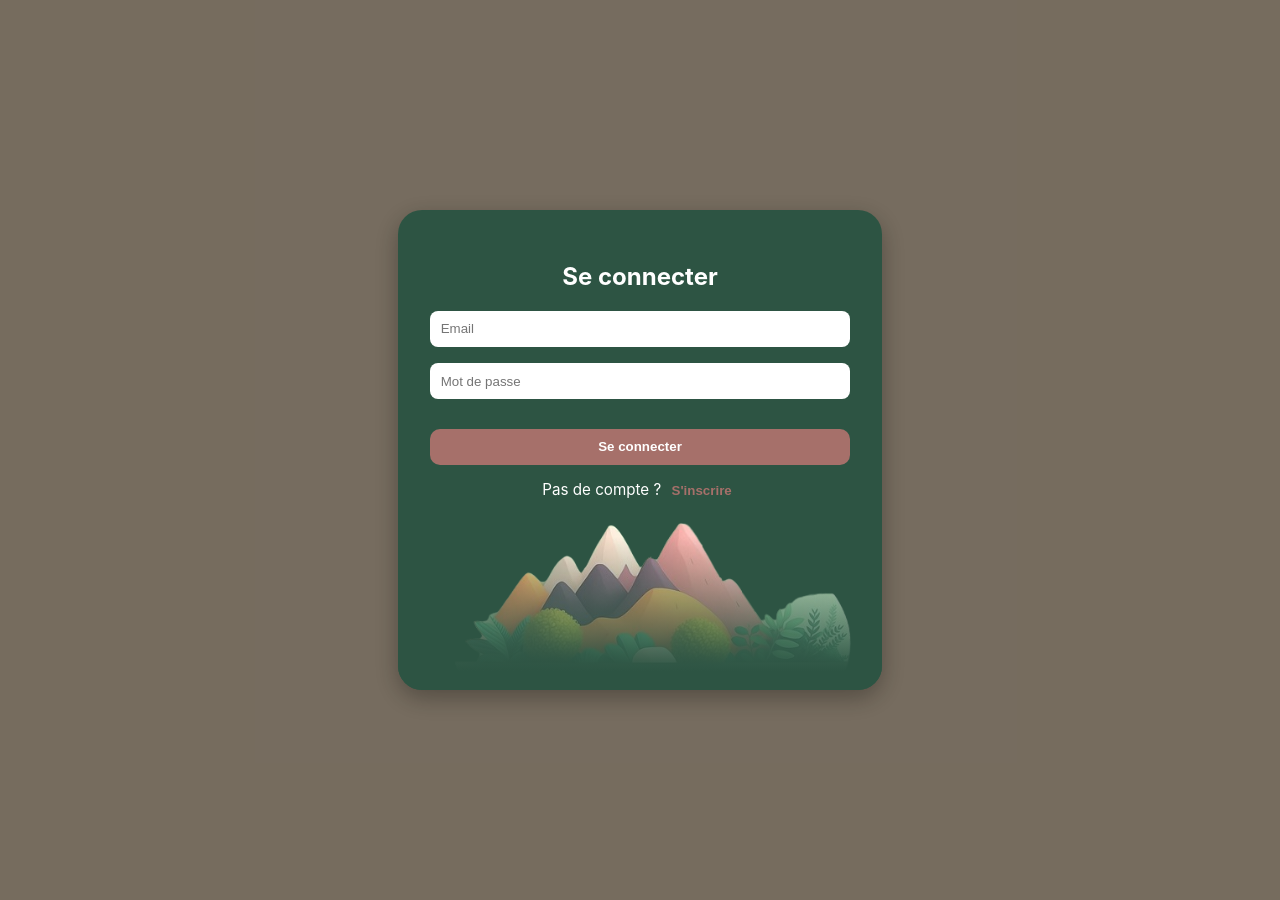
Test: AuthModal › inscription réussie — revient en mode login
Passer en mode inscription
Click the button "S'inscrire" at (702, 491), box [666,482,738,499]
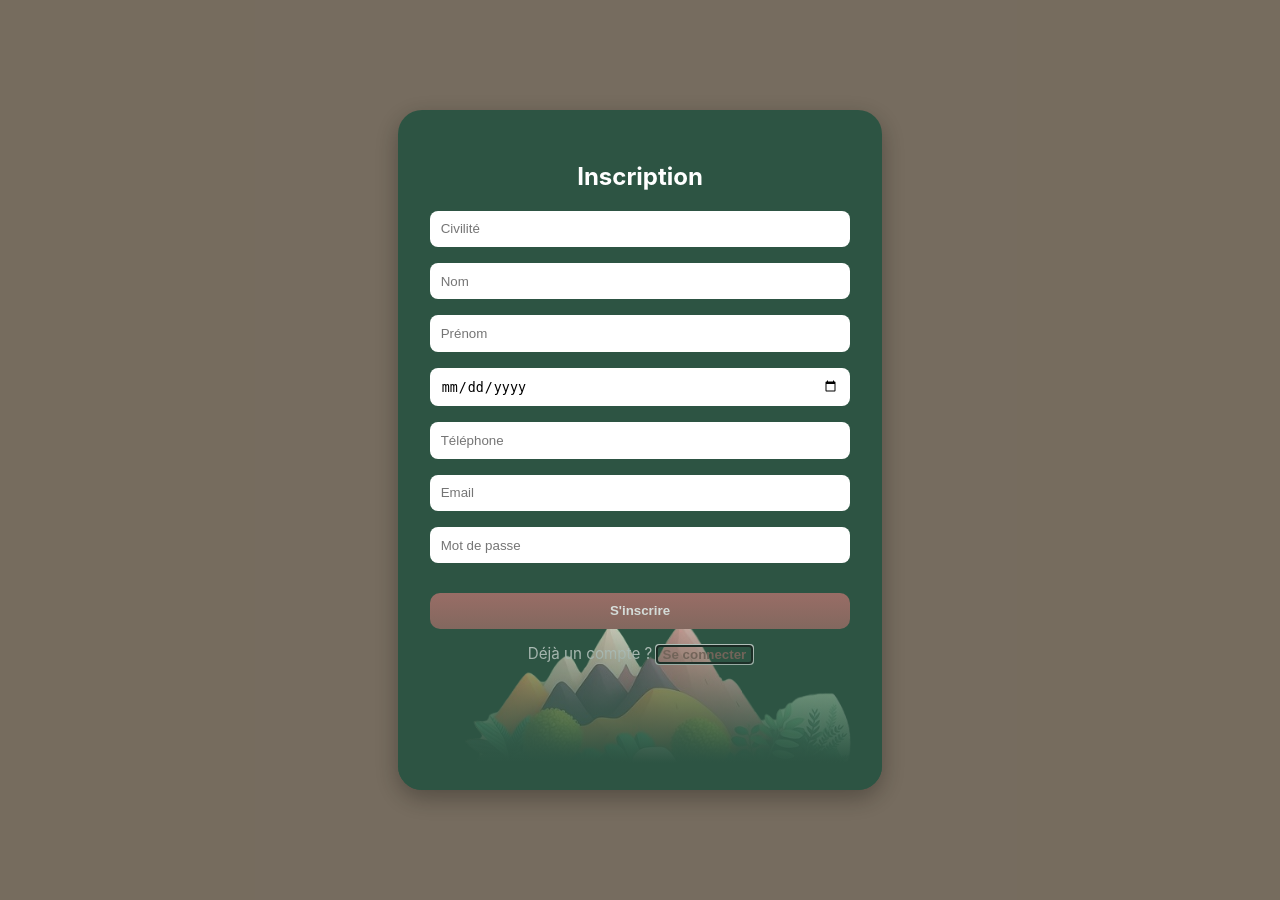
Type "Dupont" into the field with placeholder "Nom" at (640, 281), box [430,263,850,299]
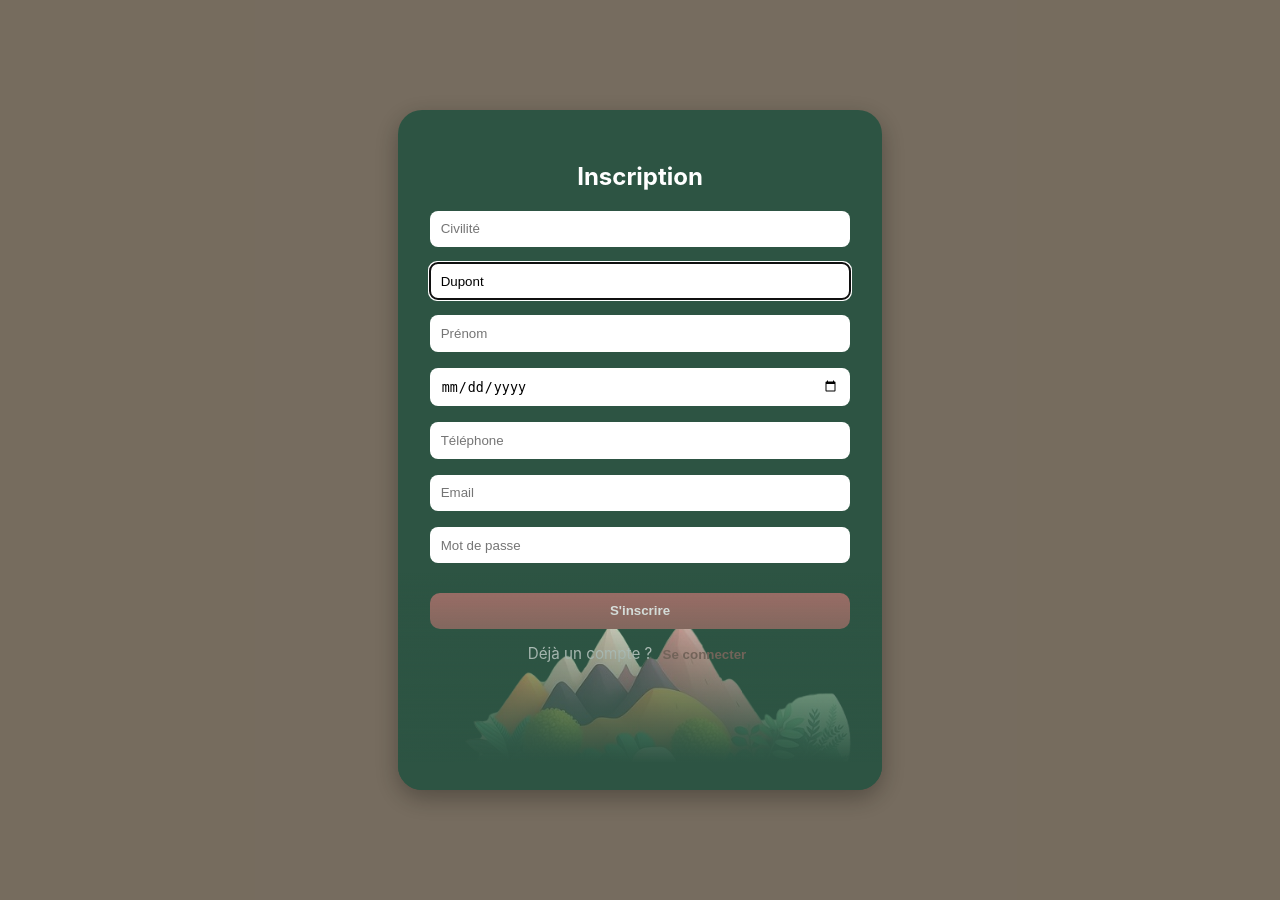
Type "Alice" into the field with placeholder "Prénom" at (640, 334), box [430,315,850,352]
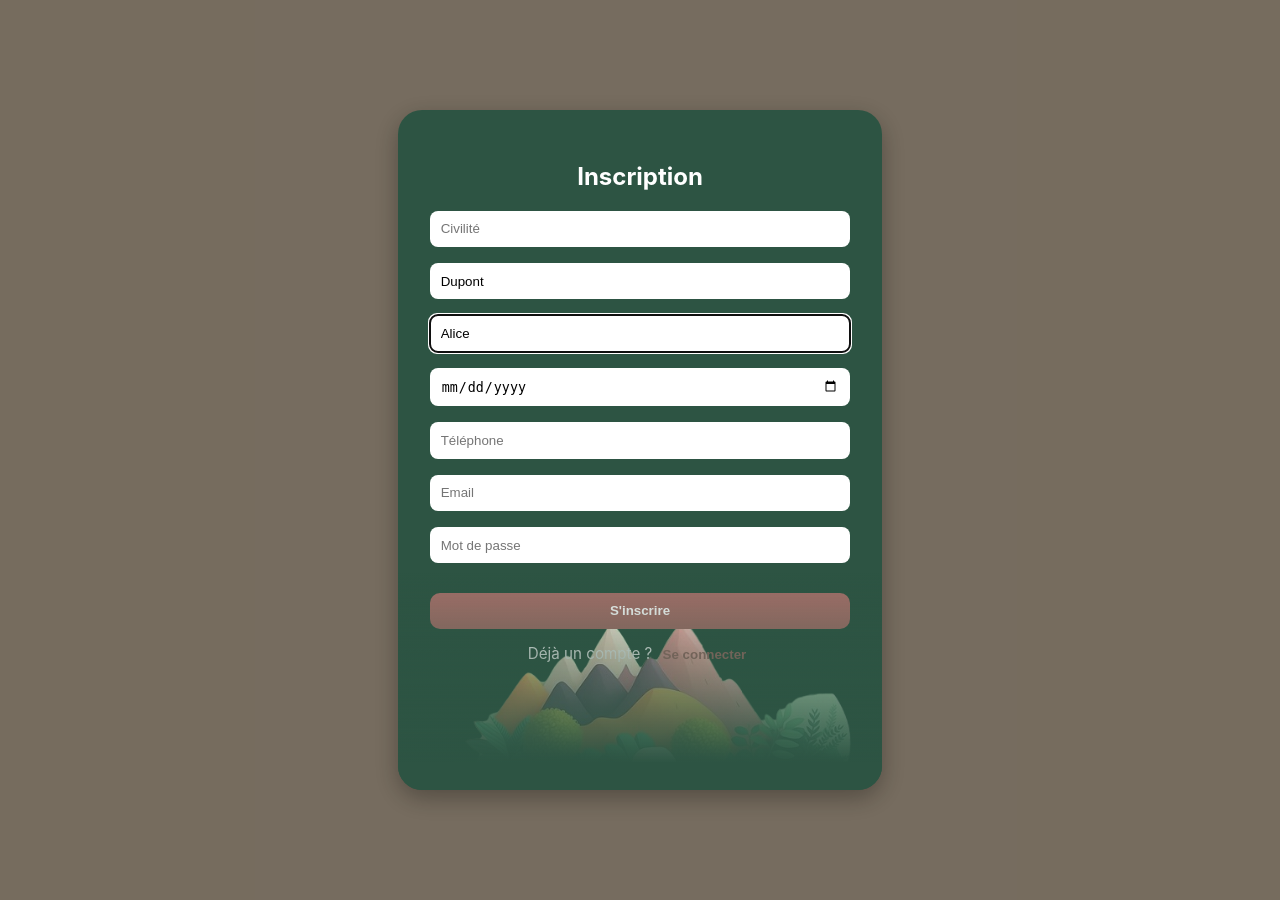
Type "alice@example.com" into the field with placeholder "Email" at (640, 493), box [430,475,850,511]
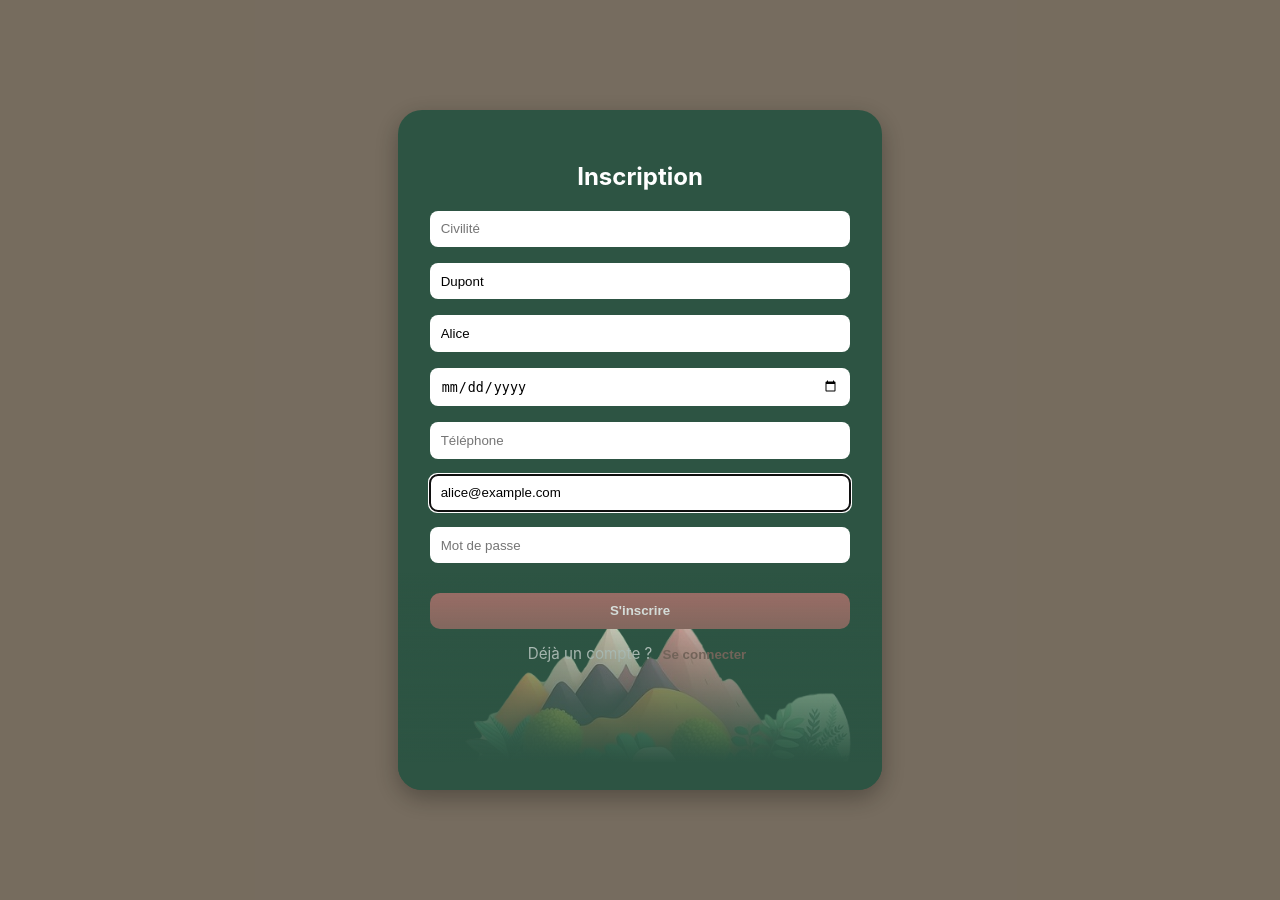
Type "secret123" into the password field with placeholder "Mot de passe" at (640, 545), box [430,527,850,563]
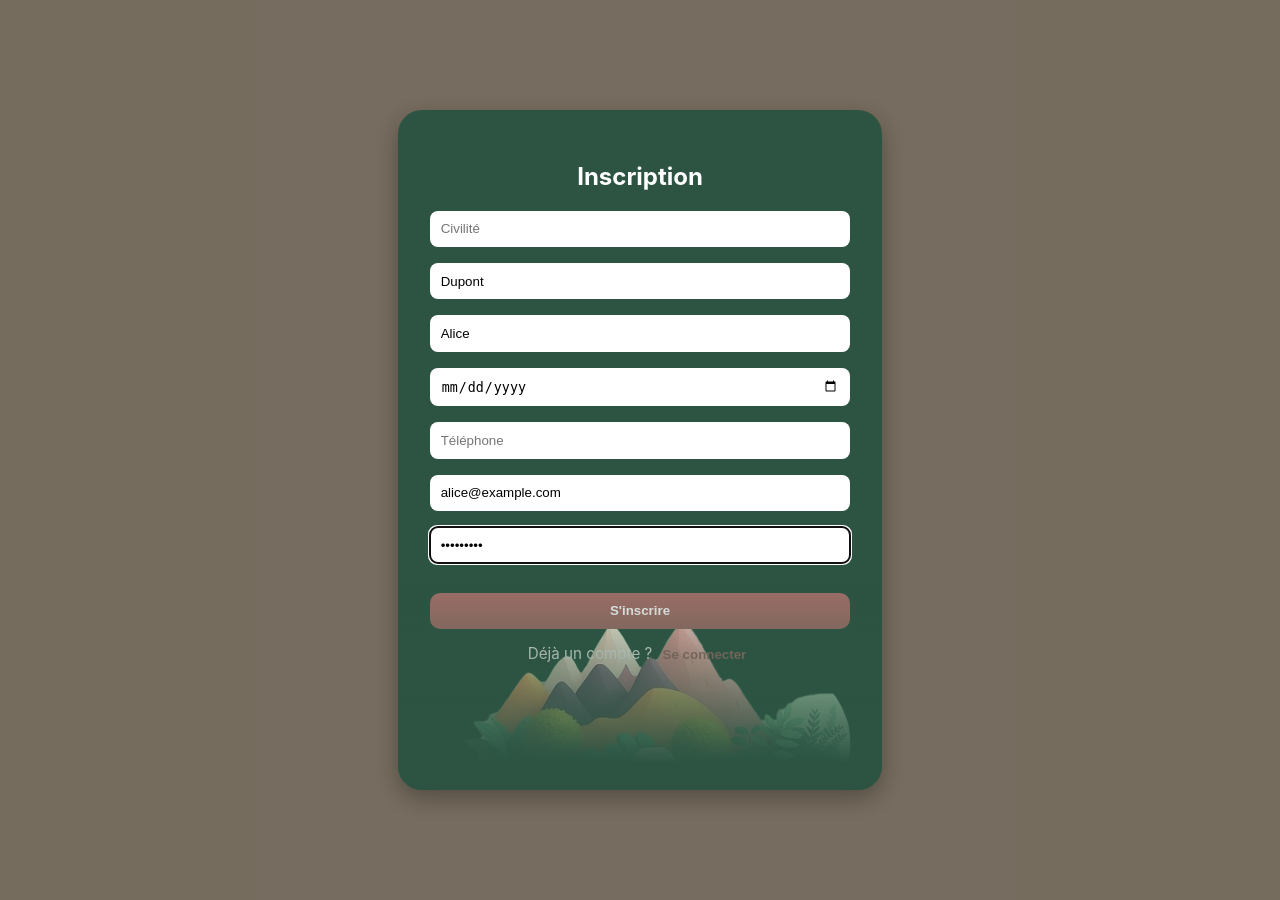
Submit the form from the button "S'inscrire", box [430,593,850,629]
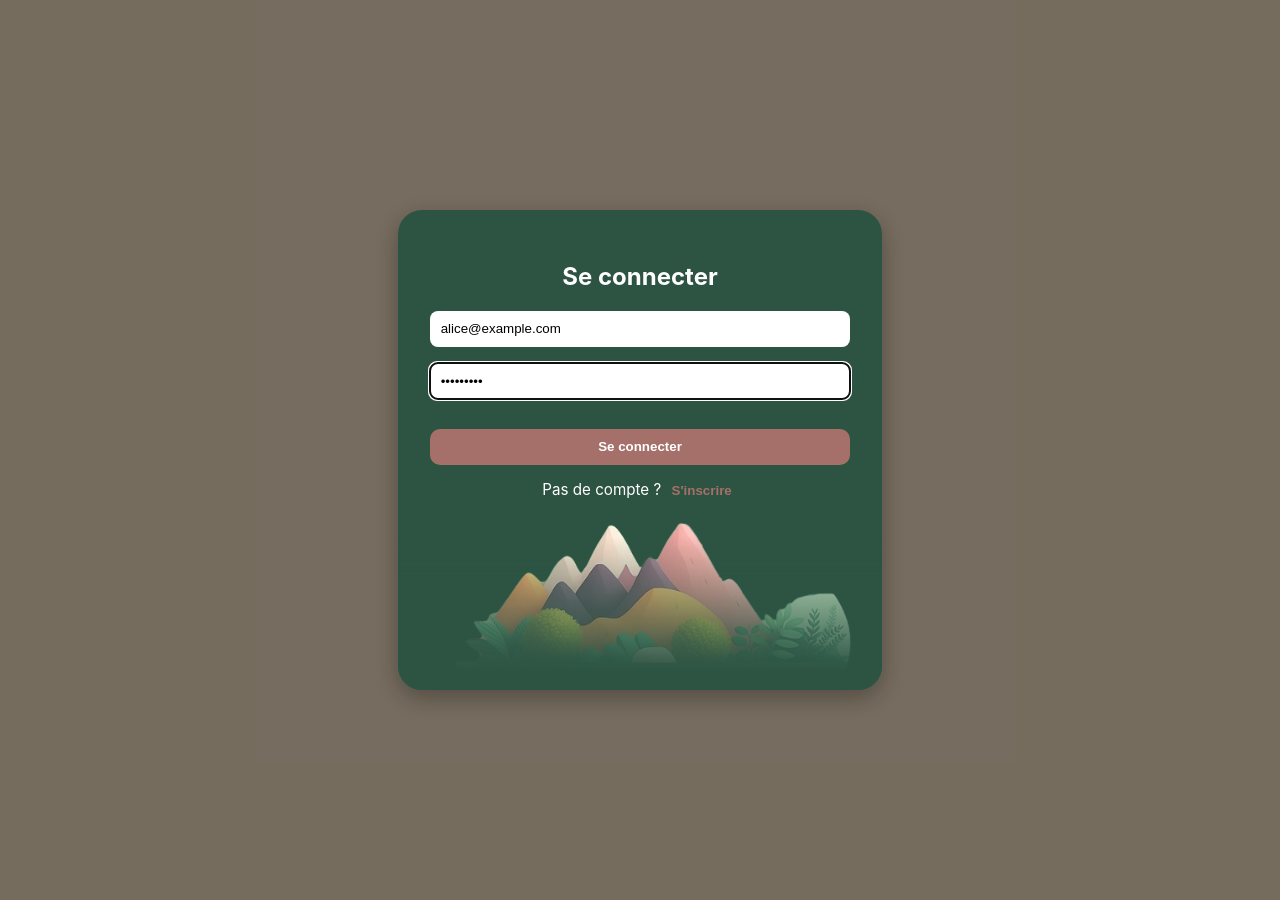
Result: the heading "Se connecter" is shown at [562,262,718,291]
